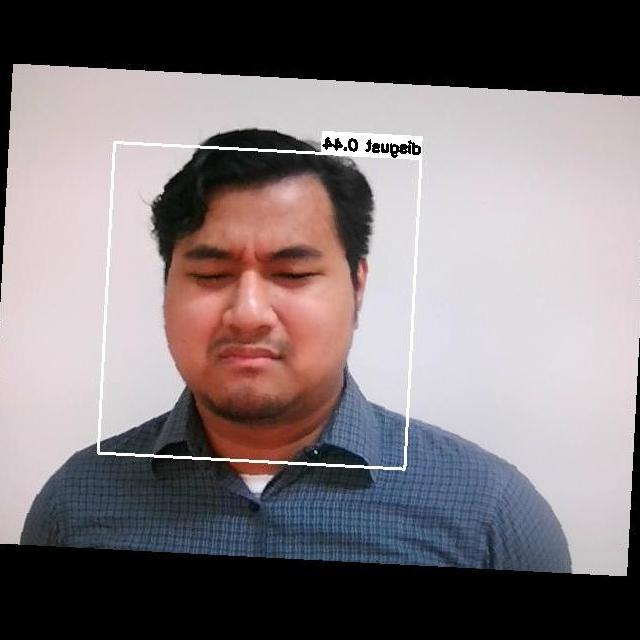Disgust: (163, 223, 351, 385)
